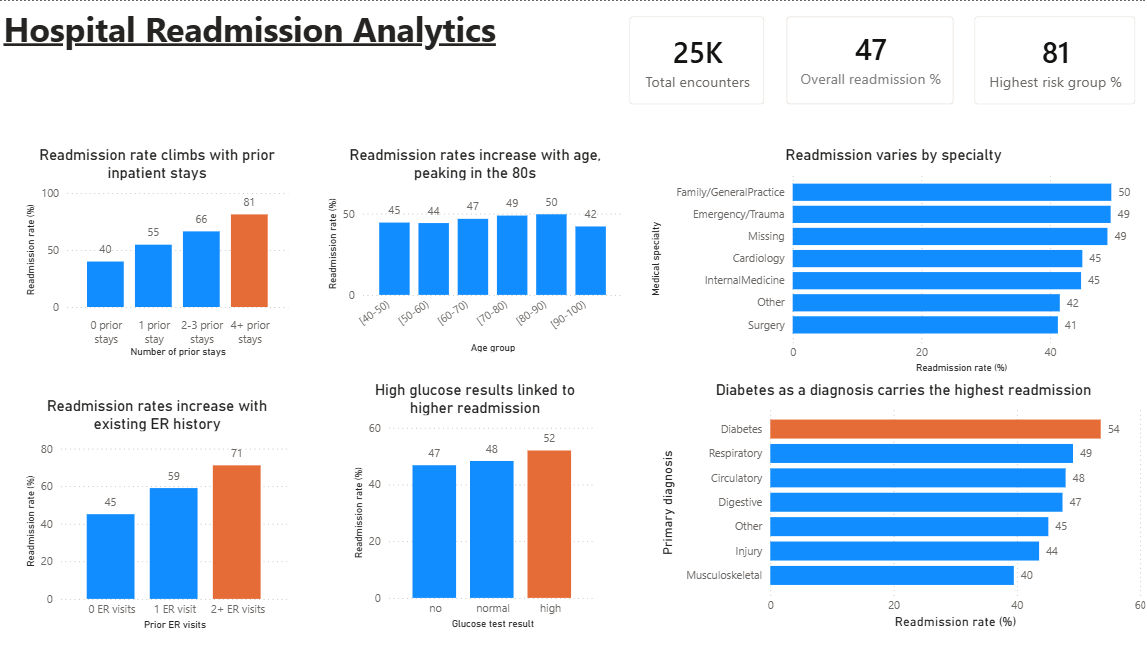

Layout of this report page (visuals, bound fields, positions):
{"tool":"powerbi","page":{"name":"Page 1","canvas":[1280,720],"ordinal":0},"visuals":[{"type":"textbox","box":[0,0,1280,63.8],"z":0},{"type":"clusteredColumnChart","title":"Readmission rate climbs with prior inpatient stays","fields":{"Category":["readmit_by_prior_inpatient.prior_inpatient_group"],"Y":["Avg(readmit_by_prior_inpatient.readmit_pct)"]},"box":[24.4,161.1,302.2,238.9],"z":1000},{"type":"clusteredColumnChart","title":"Readmission rates increase with existing ER history","fields":{"Category":["readmit_by_prior_er.prior_er_group"],"Y":["Avg(readmit_by_prior_er.readmit_pct)"]},"box":[24.4,440,302.2,263.3],"z":2000},{"type":"clusteredColumnChart","title":"Readmission rates increase with age, peaking in the 80s","fields":{"Category":["readmit_by_age.age_band"],"Y":["Avg(readmit_by_age.readmit_pct)"]},"box":[360,161.1,337.8,234.4],"z":3000},{"type":"clusteredColumnChart","title":"High glucose results linked to higher readmission","fields":{"Category":["readmit_by_glucose.glucose_test"],"Y":["Avg(readmit_by_glucose.readmit_pct)"]},"box":[388.9,422.2,280,280],"z":4000},{"type":"clusteredBarChart","title":"Readmission varies by specialty","fields":{"Y":["Avg(readmit_by_specialty.readmit_pct)"],"Category":["readmit_by_specialty.specialty_name"]},"box":[718.9,161.1,550,256.7],"z":5000},{"type":"clusteredBarChart","title":"Diabetes as a diagnosis carries the highest readmission","fields":{"Category":["readmit_by_primary_diagnosis.primary_diagnosis"],"Y":["Avg(readmit_by_primary_diagnosis.readmit_pct)"]},"box":[730,422.2,550,280],"z":6000},{"type":"cardVisual","fields":{"Data":["Sum(summary_kpis.high_risk_readmit_pct)"]},"box":[1066.7,0,213.3,132.2],"z":7000},{"type":"cardVisual","fields":{"Data":["Avg(summary_kpis.overall_readmit_pct)"]},"box":[857.2,0,220,132.2],"z":8000},{"type":"cardVisual","fields":{"Data":["Sum(summary_kpis.total_encounters)"]},"box":[683.3,0,184.4,132.2],"z":9000}]}

Visuals, with their boxes in screenshot pixels (x1, y1, x2, y2), scaled from the page's 1280x720 canvas onto the 1147x646 screenshot:
textbox: box(0, 0, 1146, 57)
"Readmission rate climbs with prior inpatient stays" clusteredColumnChart: box(22, 145, 293, 359)
"Readmission rates increase with existing ER history" clusteredColumnChart: box(22, 395, 293, 631)
"Readmission rates increase with age, peaking in the 80s" clusteredColumnChart: box(323, 145, 625, 355)
"High glucose results linked to higher readmission" clusteredColumnChart: box(348, 379, 599, 630)
"Readmission varies by specialty" clusteredBarChart: box(644, 145, 1137, 375)
"Diabetes as a diagnosis carries the highest readmission" clusteredBarChart: box(654, 379, 1146, 630)
cardVisual - Sum(summary_kpis.high_risk_readmit_pct): box(956, 0, 1146, 119)
cardVisual - Avg(summary_kpis.overall_readmit_pct): box(768, 0, 965, 119)
cardVisual - Sum(summary_kpis.total_encounters): box(612, 0, 778, 119)
